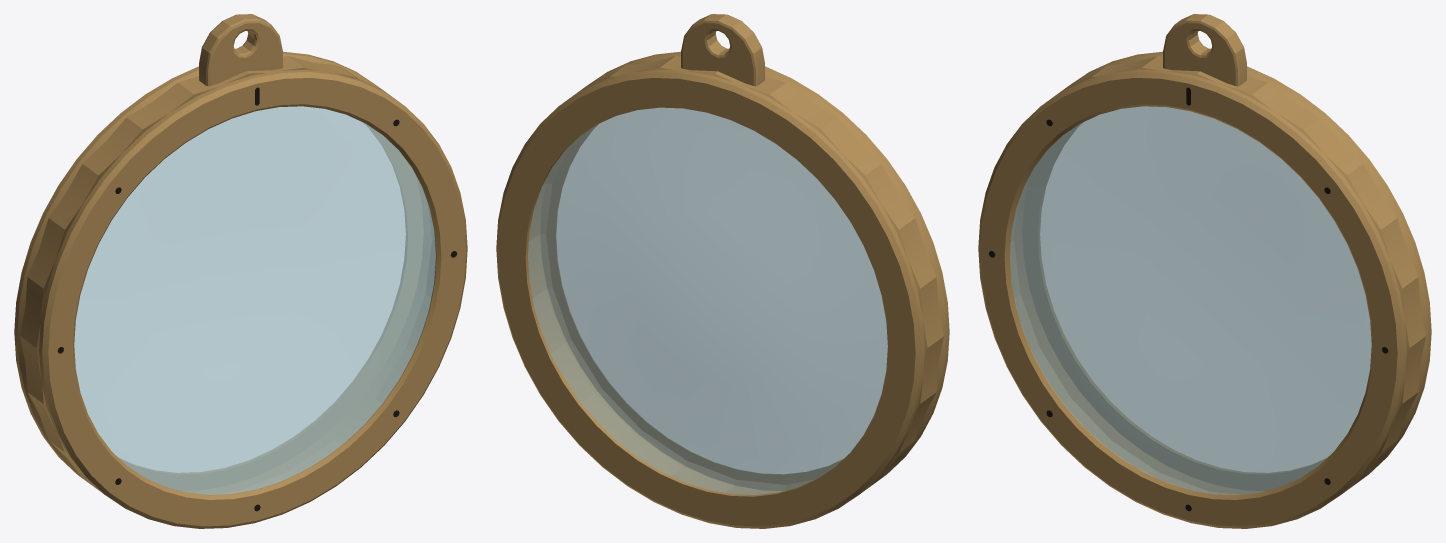
Rendered from lumen_crystal.glb.
3 views of the same model, side by side, from view 1: azimuth 30°, elevation 25°; view 2: azimuth 150°, elevation 25°; view 3: azimuth 330°, elevation 25° (orthographic).
Visible parts, largest first — view 1: lumen_crystal, crystal_face, crystal_bezel; view 2: lumen_crystal, crystal_bezel; view 3: lumen_crystal, crystal_face, crystal_bezel.
Boxes of the visible parts, x1,y1,x2,y2 form: lumen_crystal: [74, 106, 435, 494]; crystal_face: [74, 106, 435, 493]; crystal_bezel: [14, 14, 467, 528]; lumen_crystal: [528, 107, 887, 494]; crystal_bezel: [496, 14, 949, 528]; lumen_crystal: [1010, 106, 1371, 494]; crystal_face: [1010, 106, 1371, 493]; crystal_bezel: [978, 14, 1431, 528].
Size of the model in its own units: 0.0545 by 0.0607 by 0.00724.
